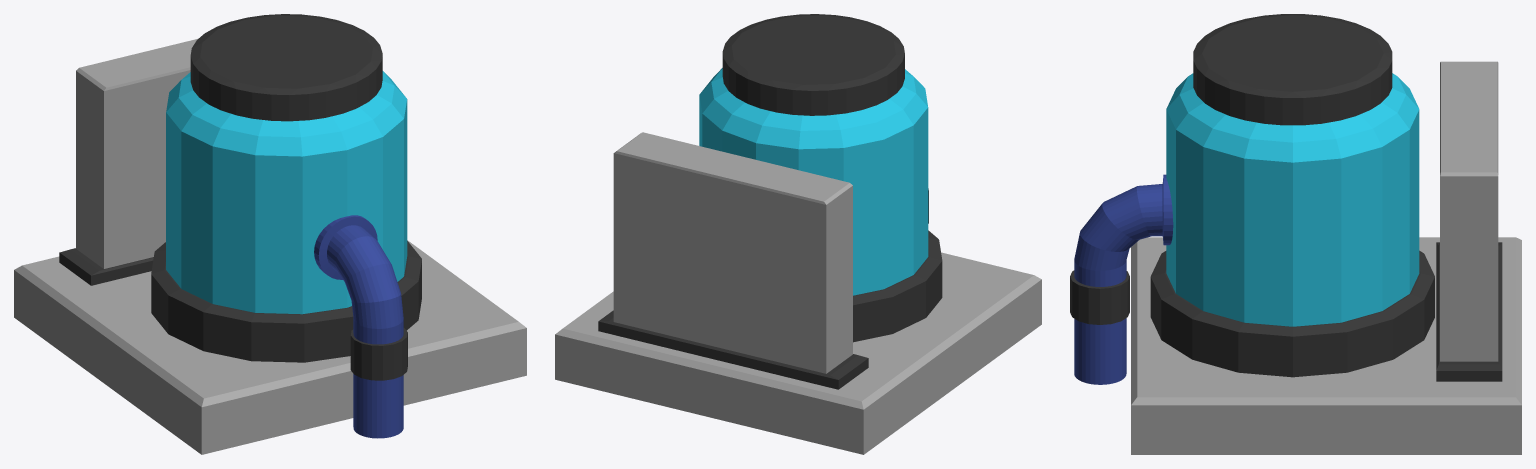
File: WaterPurifier.glb
The picture shows the model from 3 angles, left to right: view 1: azimuth 30°, elevation 25°; view 2: azimuth 150°, elevation 25°; view 3: azimuth 270°, elevation 25°; orthographic projection. The views are drawn at different scales.
Visible parts, largest first — view 1: Cylinder.001; view 2: Cylinder.001; view 3: Cylinder.001.
Part boxes in pixels (<box>): Cylinder.001: <box>14,14,526,454</box>; Cylinder.001: <box>555,14,1041,454</box>; Cylinder.001: <box>1070,14,1521,454</box>.
Size of the model in its own units: 1.73 by 1.57 by 2.
